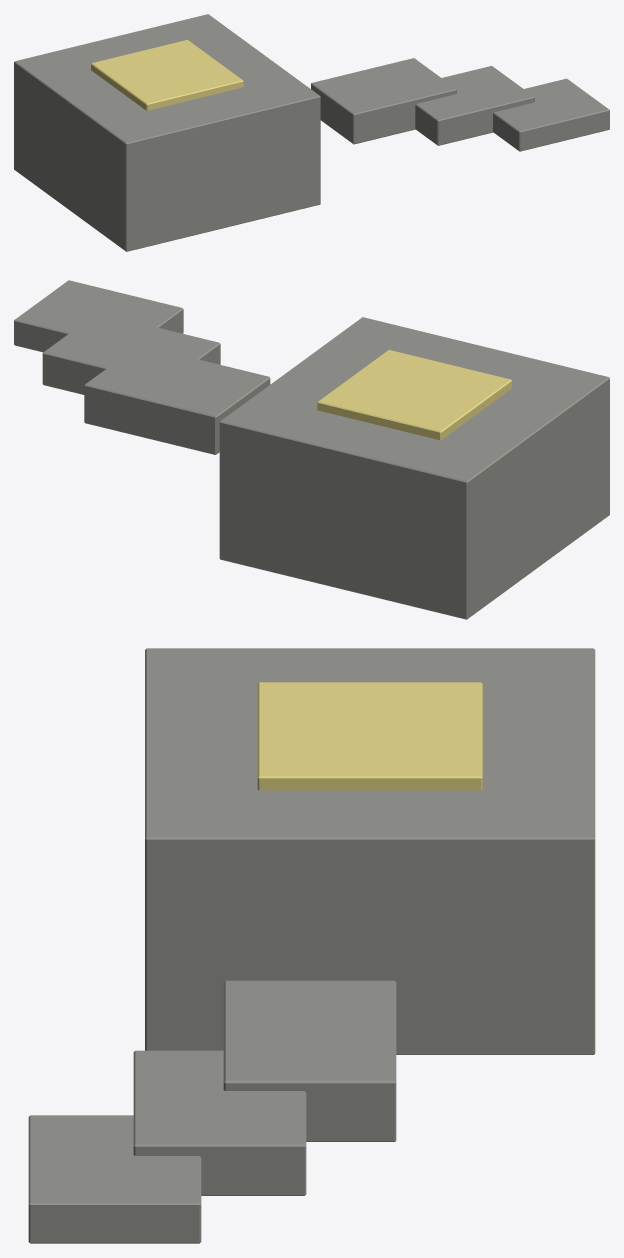
Rendered from IT_duct_tape.fbx.
3 renders of one model, top to bottom at view 1: azimuth 30°, elevation 25°; view 2: azimuth 150°, elevation 25°; view 3: azimuth 270°, elevation 25°, orthographic. The views are drawn at different scales.
Visible parts, largest first — view 1: IT_duct_tape; view 2: IT_duct_tape; view 3: IT_duct_tape.
Boxes of the visible parts, box(x1,y1,x2,y2) form: IT_duct_tape: box(14, 14, 609, 251); IT_duct_tape: box(14, 280, 609, 619); IT_duct_tape: box(28, 648, 595, 1243).
Size of the model in its own units: 0.7 by 0.18 by 0.3775.
